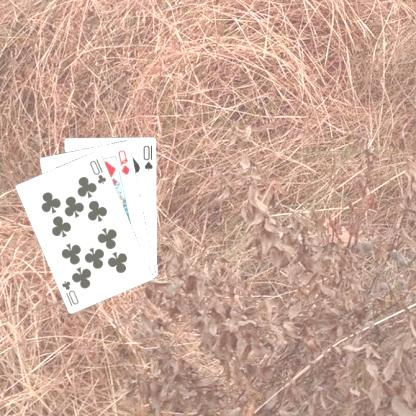10C: (89, 155, 110, 186), (61, 278, 82, 308)
10S: (143, 142, 156, 172)
QD: (118, 146, 134, 176)
